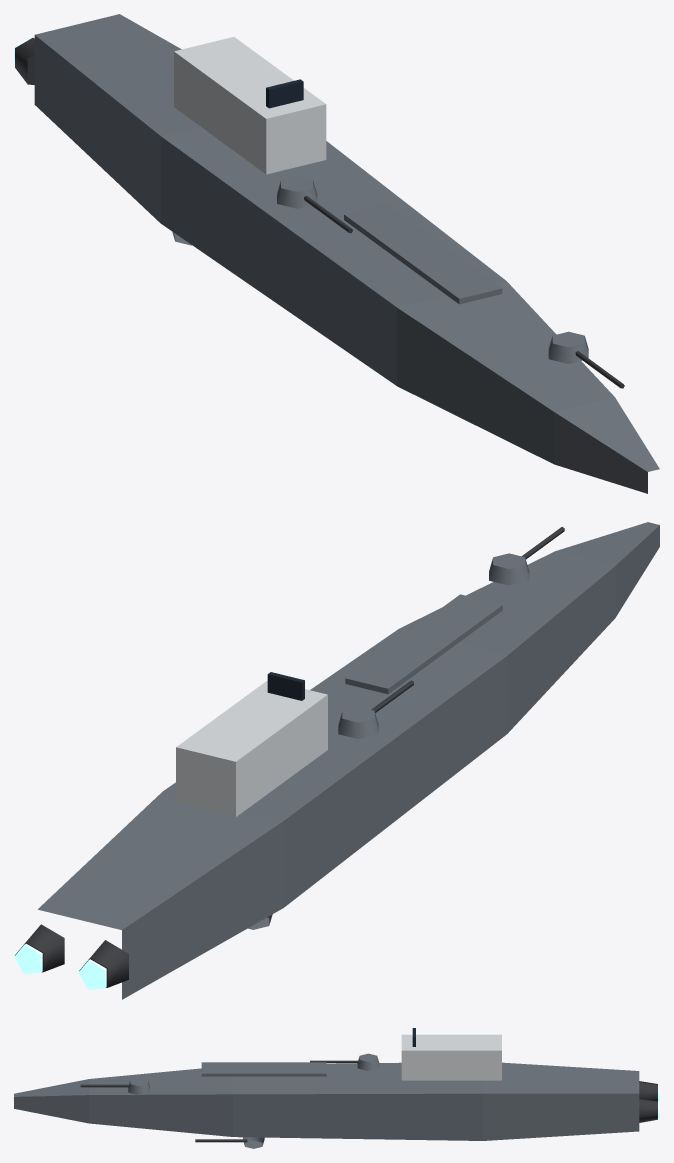
The model's file is space_ship_frigate_mk3_lod1.glb.
3 views of the same model, one above another, from view 1: azimuth 30°, elevation 25°; view 2: azimuth 150°, elevation 25°; view 3: azimuth 270°, elevation 25° (orthographic). The views are drawn at different scales.
Visible parts, largest first — view 1: body, turret_0, turret_2, engine_0; view 2: body, engine_1, engine_0, turret_0, turret_2; view 3: body, turret_0, turret_2, engine_1, turret_1, engine_0.
Boxes of the visible parts, x1,y1,x2,y2 form: body: (34,14,659,493); turret_0: (548,331,624,388); turret_2: (277,176,352,233); engine_0: (14,37,34,84); body: (38,522,659,999); engine_1: (14,924,64,974); engine_0: (78,940,128,989); turret_0: (489,527,564,585); turret_2: (338,680,413,738); body: (14,1028,639,1140); turret_0: (80,1077,149,1095); turret_2: (310,1053,379,1070); engine_1: (639,1098,659,1122); turret_1: (195,1137,264,1148); engine_0: (639,1081,659,1101).
Bounding box in the file's own units: 4.53 × 6.84 × 38.42.
